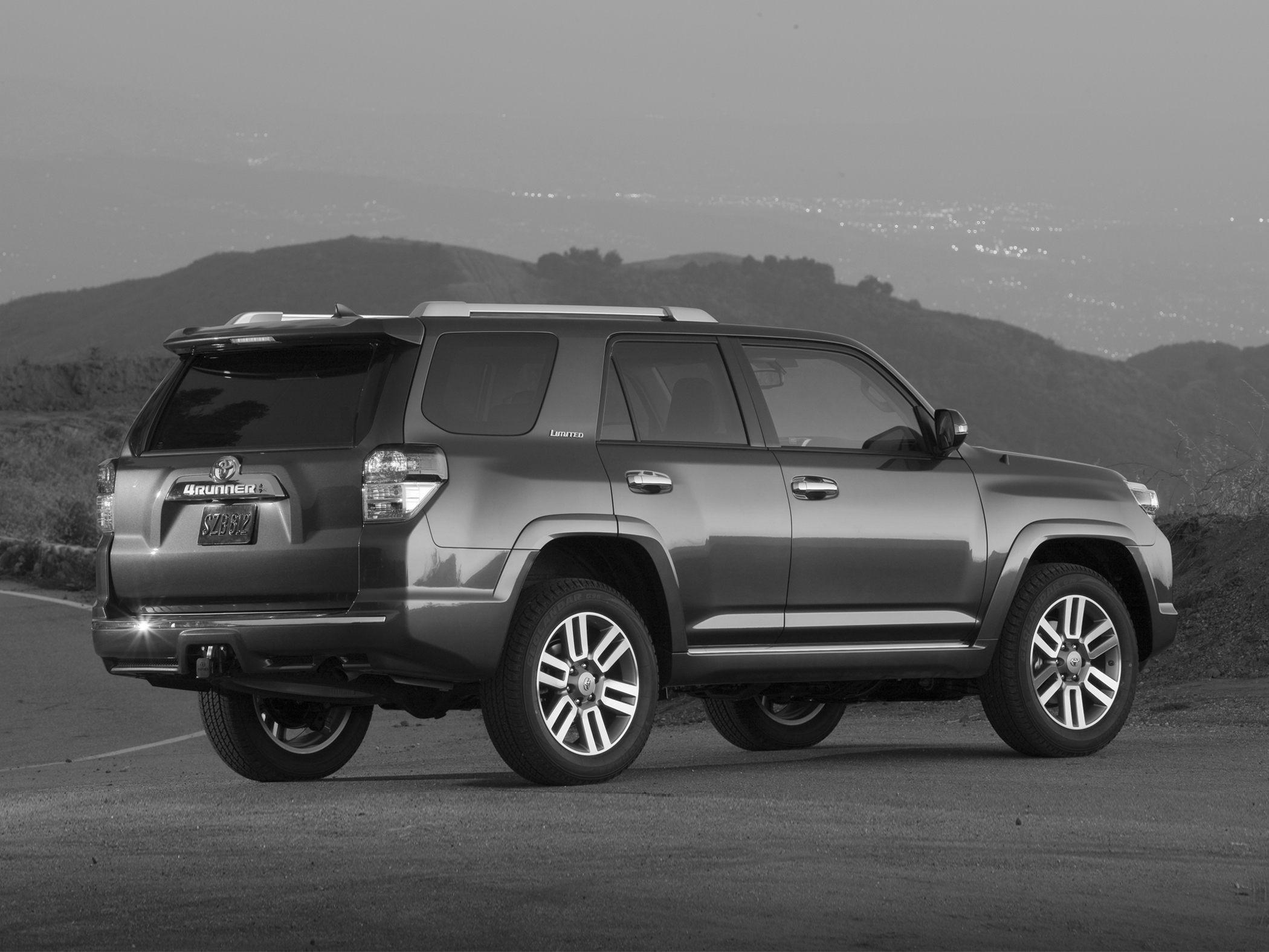car: (91, 296, 1181, 779)
